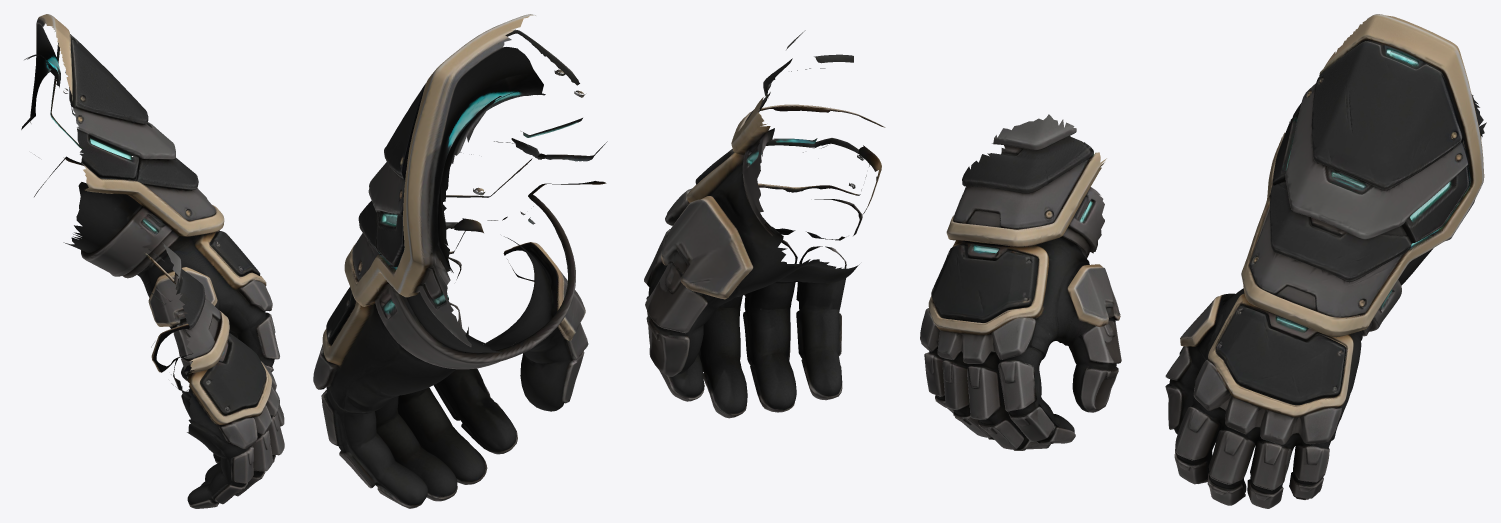
File: gauntlet_r.glb
3 views of the same model, side by side, from view 1: azimuth 30°, elevation 25°; view 2: azimuth 150°, elevation 25°; view 3: azimuth 270°, elevation 25° (orthographic). The views are drawn at different scales.
Parts seen in each view (by area): view 1: tripo_node_ef5a524b-498e-4954-bb6b-68a9ebbacbfe; view 2: tripo_node_ef5a524b-498e-4954-bb6b-68a9ebbacbfe; view 3: tripo_node_ef5a524b-498e-4954-bb6b-68a9ebbacbfe.
Boxes of the visible parts, left/top/right/bottom form: tripo_node_ef5a524b-498e-4954-bb6b-68a9ebbacbfe: left=21, top=14, right=284, bottom=508; tripo_node_ef5a524b-498e-4954-bb6b-68a9ebbacbfe: left=313, top=14, right=885, bottom=508; tripo_node_ef5a524b-498e-4954-bb6b-68a9ebbacbfe: left=920, top=14, right=1486, bottom=508.
Size of the model in its own units: 0.4902 by 0.802 by 0.9638.
Materials: 1 (1 with a texture image).
